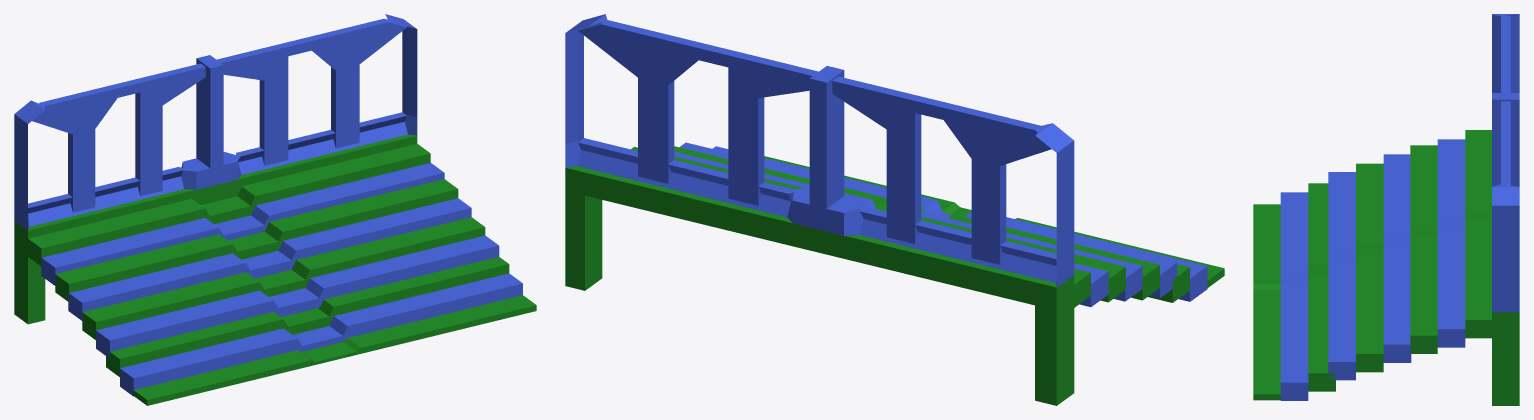
Rendered from Stands.fbx.
3 views of the same model, side by side, from view 1: azimuth 30°, elevation 25°; view 2: azimuth 150°, elevation 25°; view 3: azimuth 270°, elevation 25° (orthographic). The views are drawn at different scales.
Visible parts, largest first — view 1: Cube.010, Cube, Cube.002, Cube.003, Cube.007, Cube.004, Cube.005, Cube.008, Cube.001, Cube.009, Cube.006; view 2: Cube.010, Cube.006, Cube.002, Cube.005, Cube, Cube.004, Cube.003, Cube.009, Cube.008, Cube.001; view 3: Cube.010, Cube.008, Cube, Cube.005, Cube.004, Cube.003, Cube.002, Cube.007, Cube.009, Cube.001, Cube.006.
Boxes of the visible parts, bbox=[...] form: Cube.010: bbox=[14, 14, 417, 230]; Cube: bbox=[120, 273, 522, 396]; Cube.002: bbox=[96, 235, 499, 358]; Cube.003: bbox=[55, 179, 458, 301]; Cube.007: bbox=[28, 143, 430, 266]; Cube.004: bbox=[68, 198, 471, 320]; Cube.005: bbox=[82, 217, 485, 339]; Cube.008: bbox=[41, 162, 444, 285]; Cube.001: bbox=[106, 257, 509, 376]; Cube.009: bbox=[133, 295, 536, 405]; Cube.006: bbox=[14, 134, 417, 324]; Cube.010: bbox=[565, 14, 1074, 287]; Cube.006: bbox=[565, 166, 1074, 405]; Cube.002: bbox=[679, 142, 1177, 297]; Cube.005: bbox=[674, 146, 1159, 300]; Cube: bbox=[712, 146, 1207, 301]; Cube.004: bbox=[674, 151, 1142, 301]; Cube.003: bbox=[631, 146, 1125, 302]; Cube.009: bbox=[764, 156, 1224, 287]; Cube.008: bbox=[1074, 263, 1108, 307]; Cube.001: bbox=[921, 205, 1189, 302]; Cube.010: bbox=[1492, 14, 1519, 312]; Cube.008: bbox=[1437, 139, 1465, 347]; Cube: bbox=[1280, 192, 1308, 400]; Cube.005: bbox=[1356, 163, 1383, 372]; Cube.004: bbox=[1383, 154, 1411, 362]; Cube.003: bbox=[1410, 145, 1437, 353]; Cube.002: bbox=[1328, 172, 1355, 380]; Cube.007: bbox=[1465, 130, 1492, 338]; Cube.009: bbox=[1253, 204, 1280, 400]; Cube.001: bbox=[1308, 183, 1335, 391]; Cube.006: bbox=[1492, 312, 1519, 405].
Size of the model in its own units: 2056 by 1068 by 1217.
